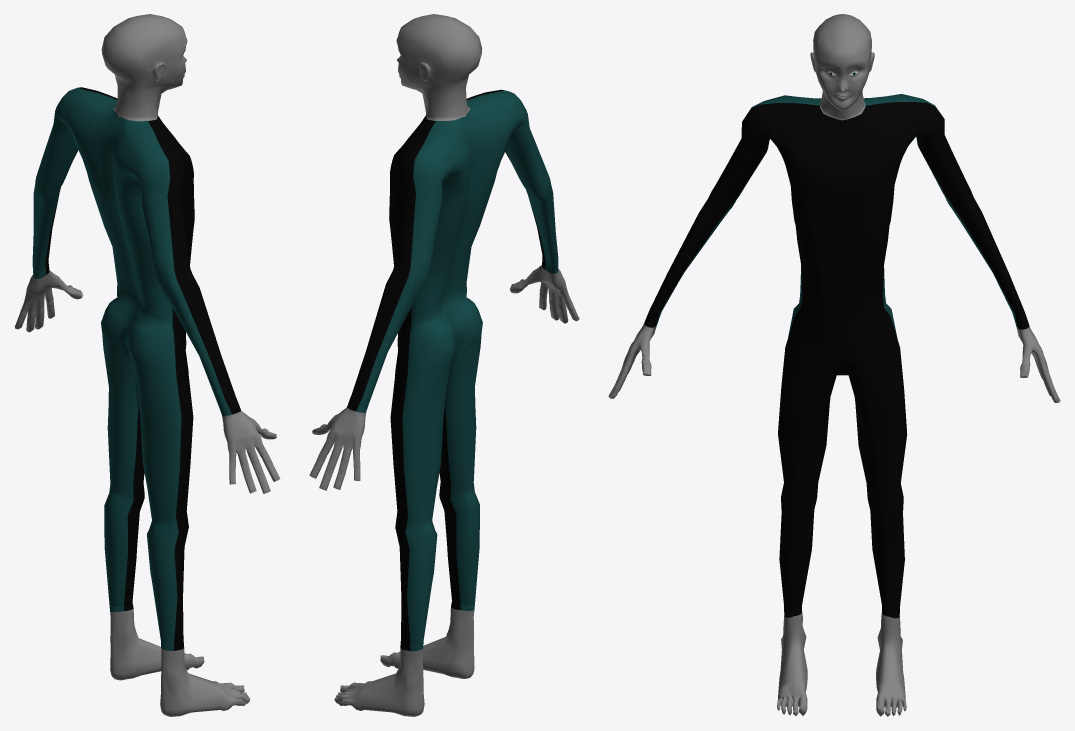
File: guy.obj
3 renders of one model, left to right at view 1: azimuth 30°, elevation 25°; view 2: azimuth 150°, elevation 25°; view 3: azimuth 270°, elevation 25°, orthographic. The views are drawn at different scales.
Parts seen in each view (by area): view 1: pSphere2; view 2: pSphere2; view 3: pSphere2.
Boxes of the visible parts, <box> form: pSphere2: <box>14,14,280,716</box>; pSphere2: <box>309,14,579,716</box>; pSphere2: <box>608,14,1060,716</box>.
Size of the model in its own units: 2.15 by 11.04 by 6.84.
